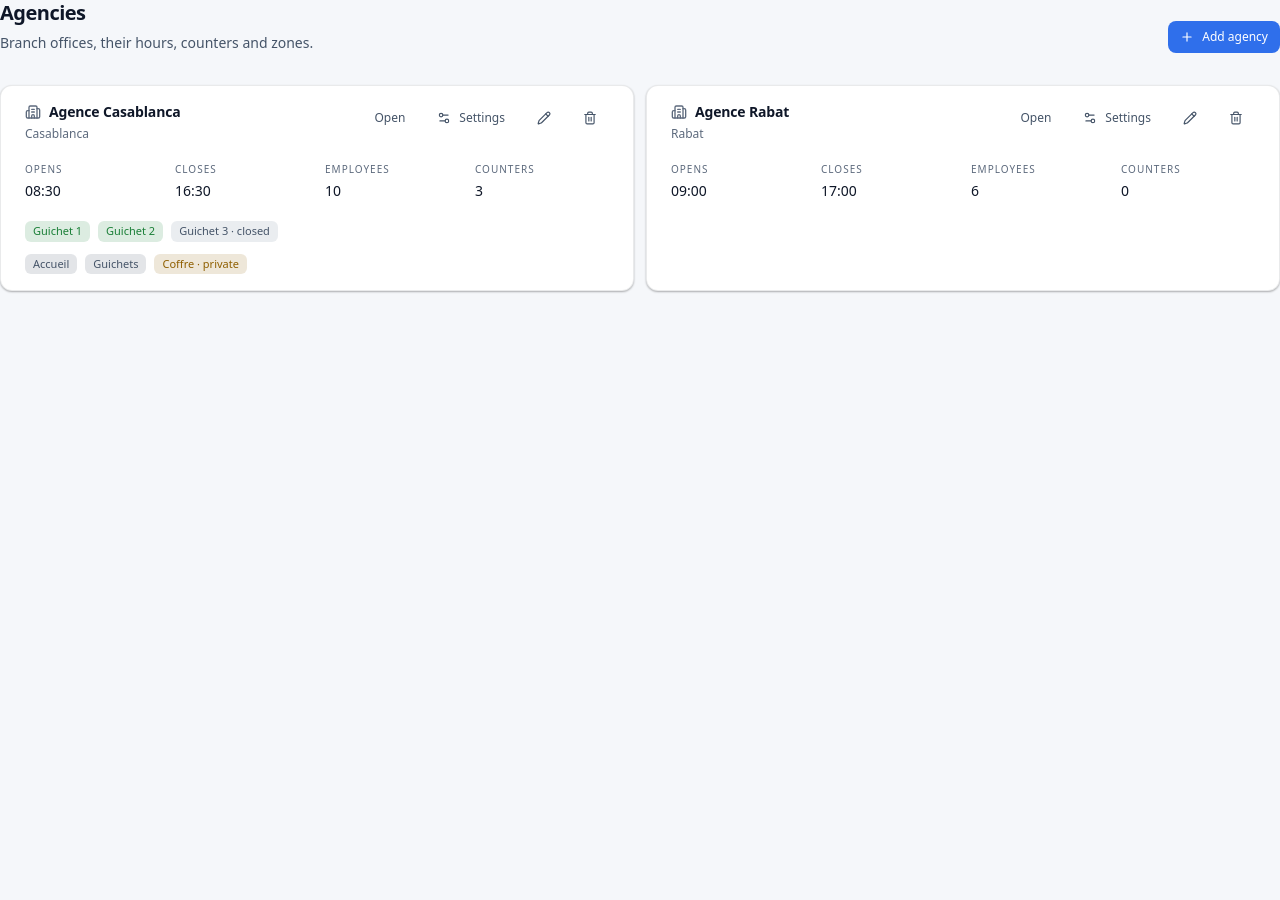
Agencies › create › catches duplicate counter numbers in the form
This screenshot has width=1280, height=900.
Expected: the heading "Agence Casablanca" is shown, [49,102,180,122]
Step 1. Click the button "Add agency" → {"x": 1224, "y": 37}, box [1168,21,1279,53]
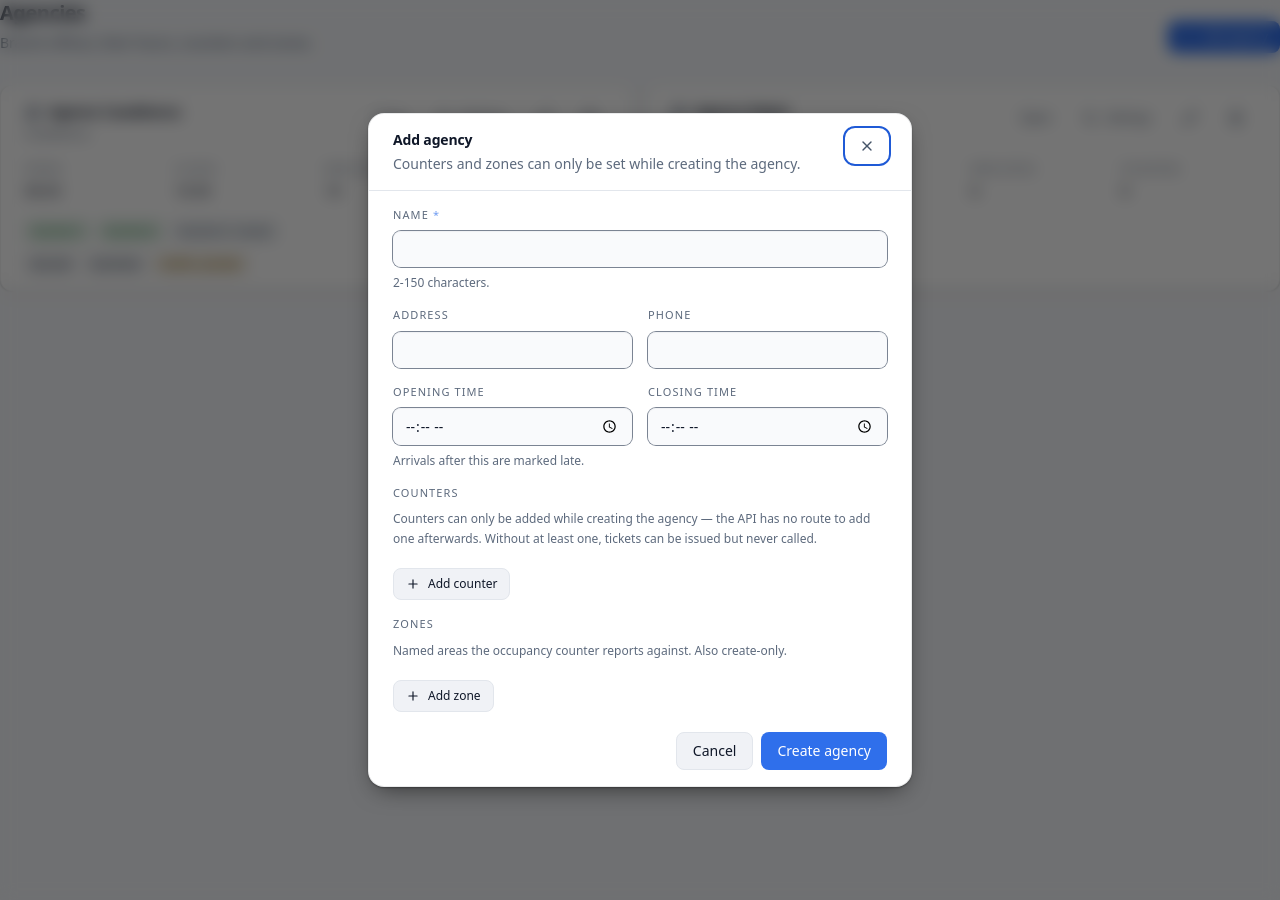
Step 2. Type "Agence Fes" into the field labelled "Name*" → {"x": 640, "y": 249}, box [393,231,887,267]
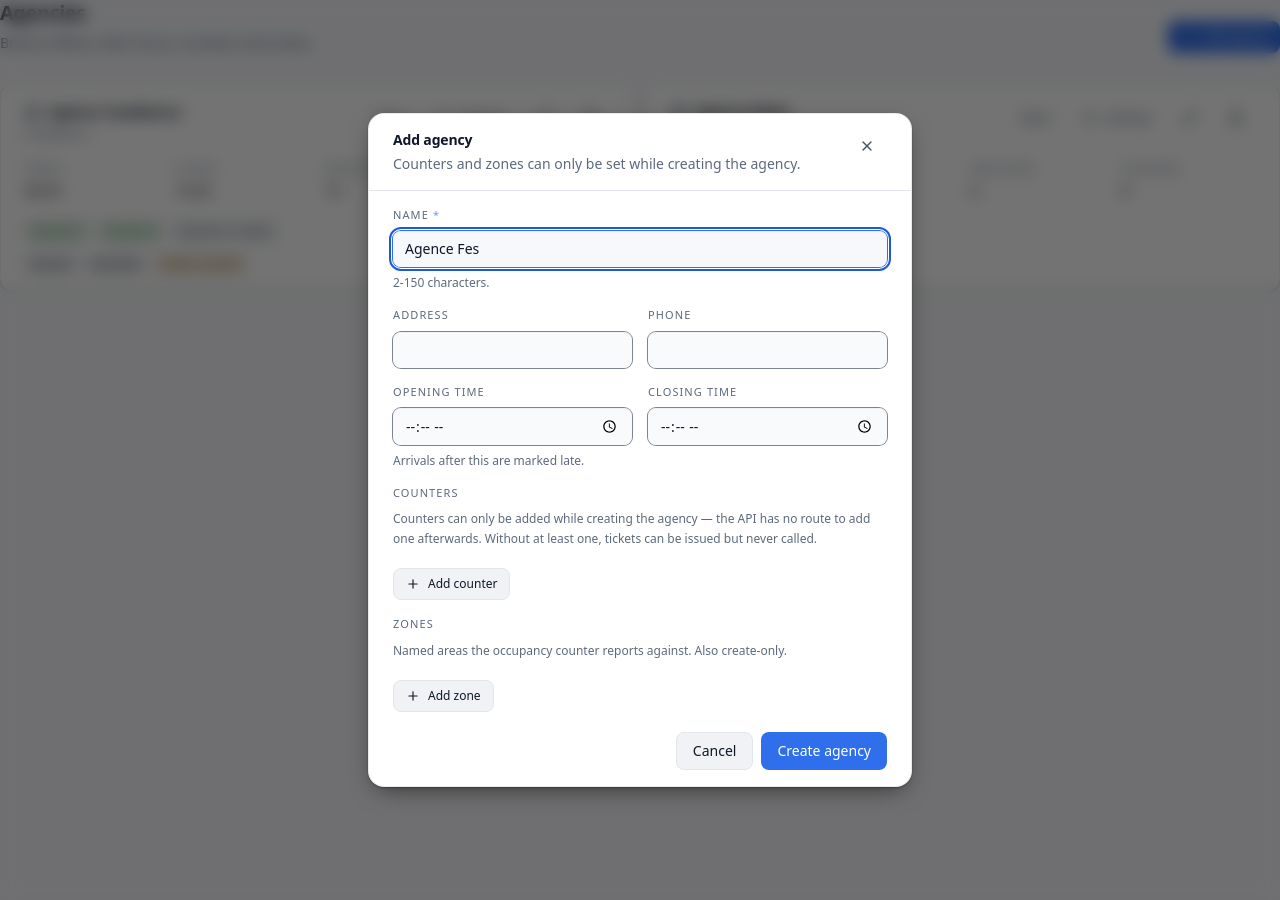
Step 3. Click the button "Add counter" → {"x": 452, "y": 584}, box [393,568,510,600]
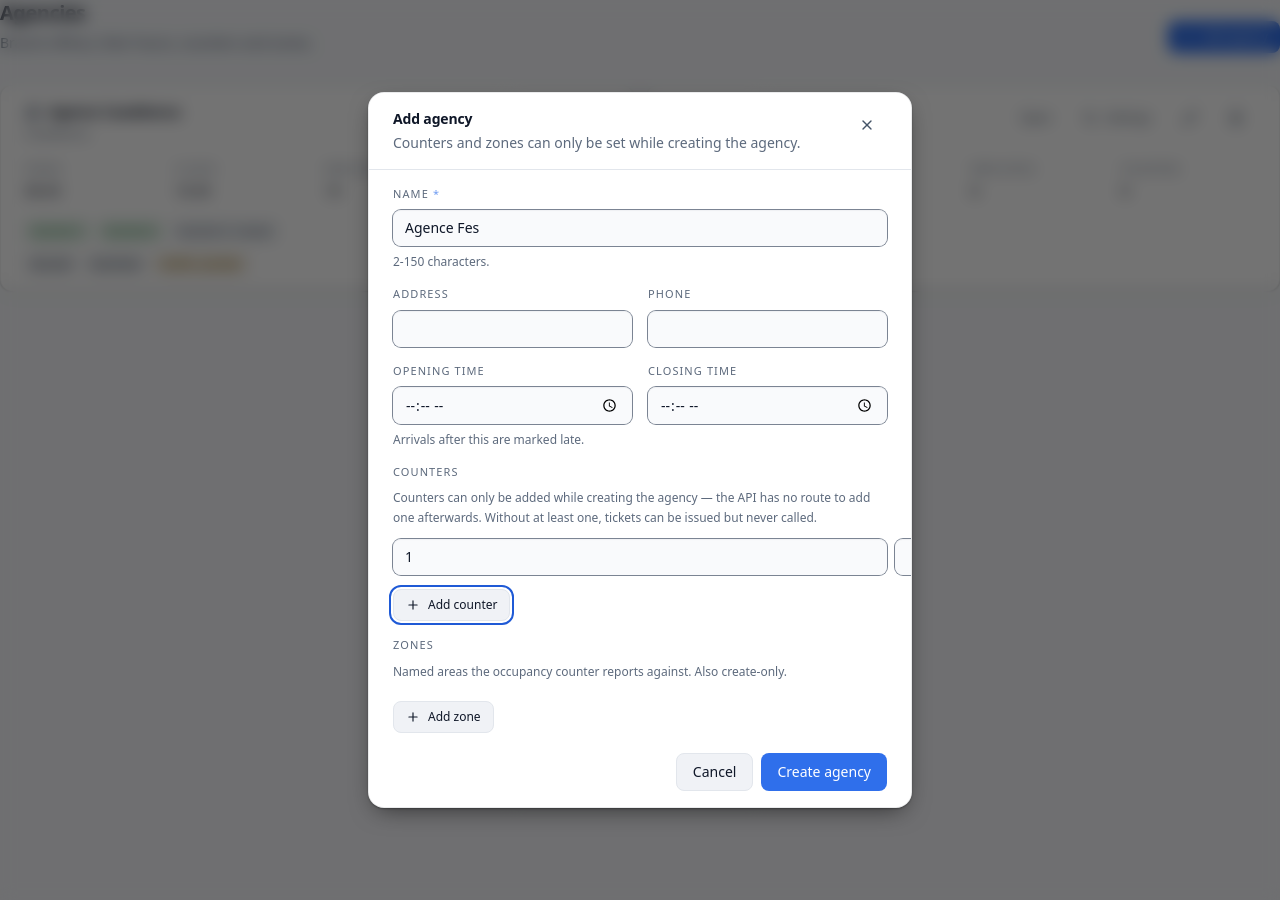
Step 4. Click the button "Add counter" → {"x": 452, "y": 605}, box [393,589,510,621]
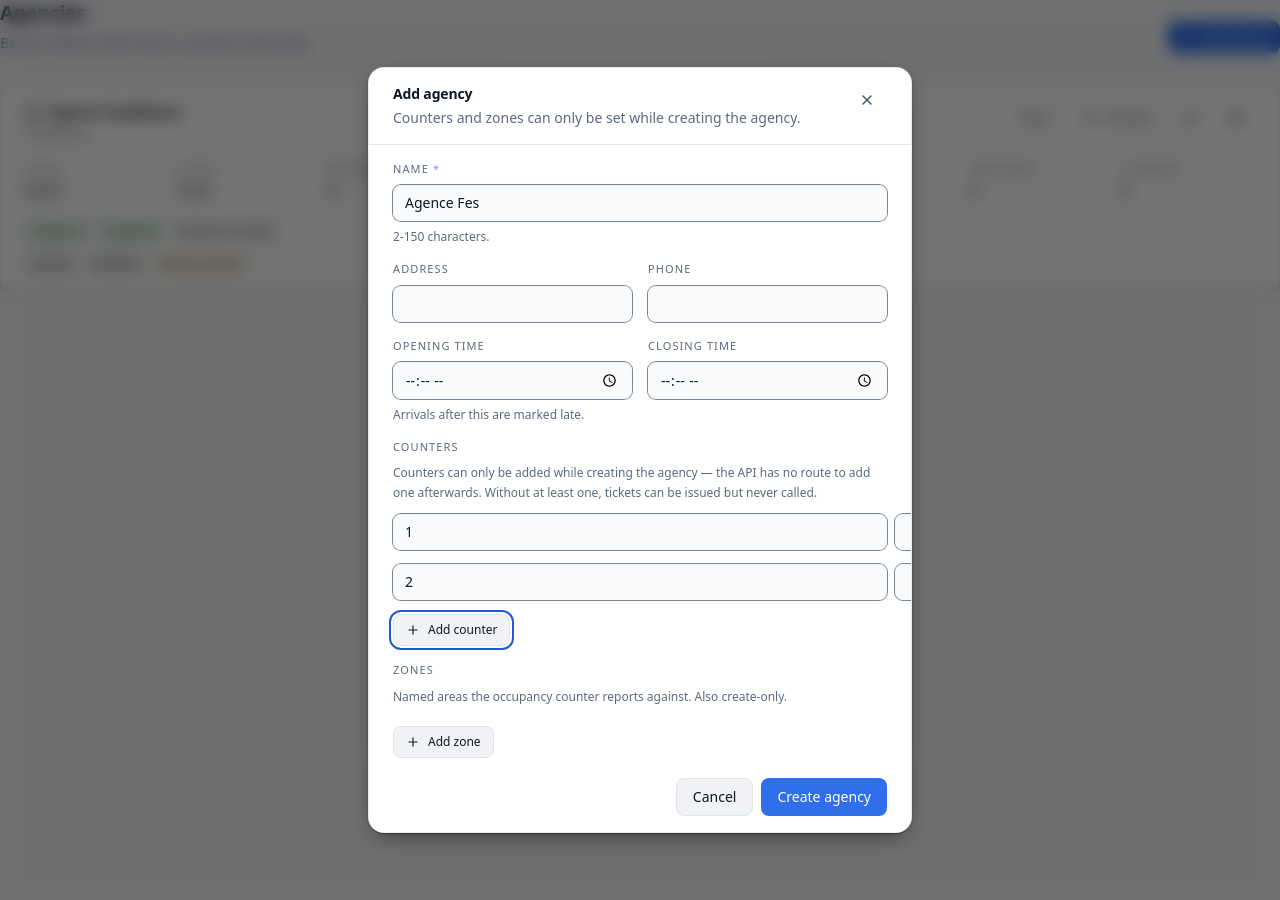
Step 5. Replace the text in the number field named "counter 2 number" with "1" → {"x": 640, "y": 582}, box [393,564,887,600]
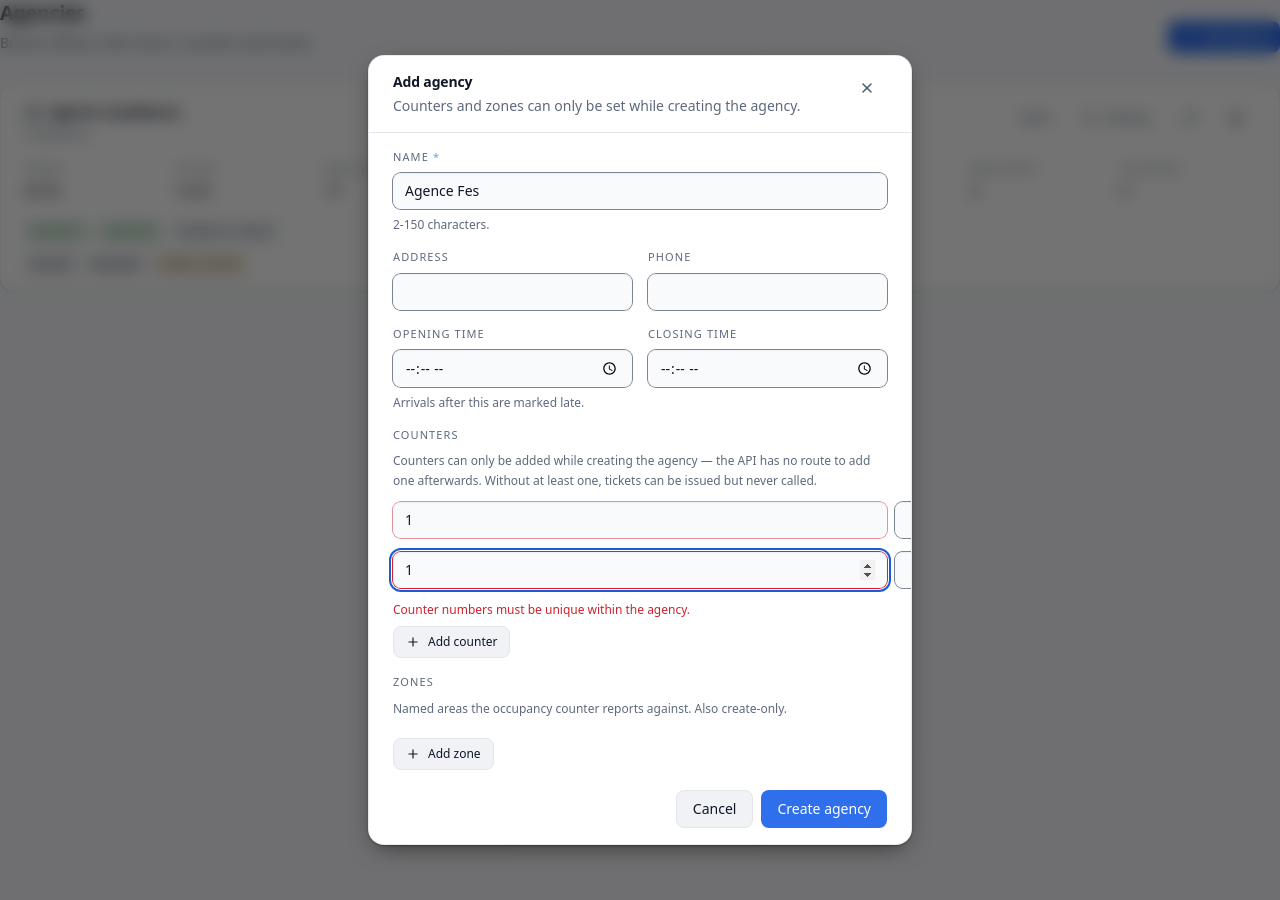
Expected: the text "Counter numbers must be unique within the agency." is shown, [393,601,690,618]
